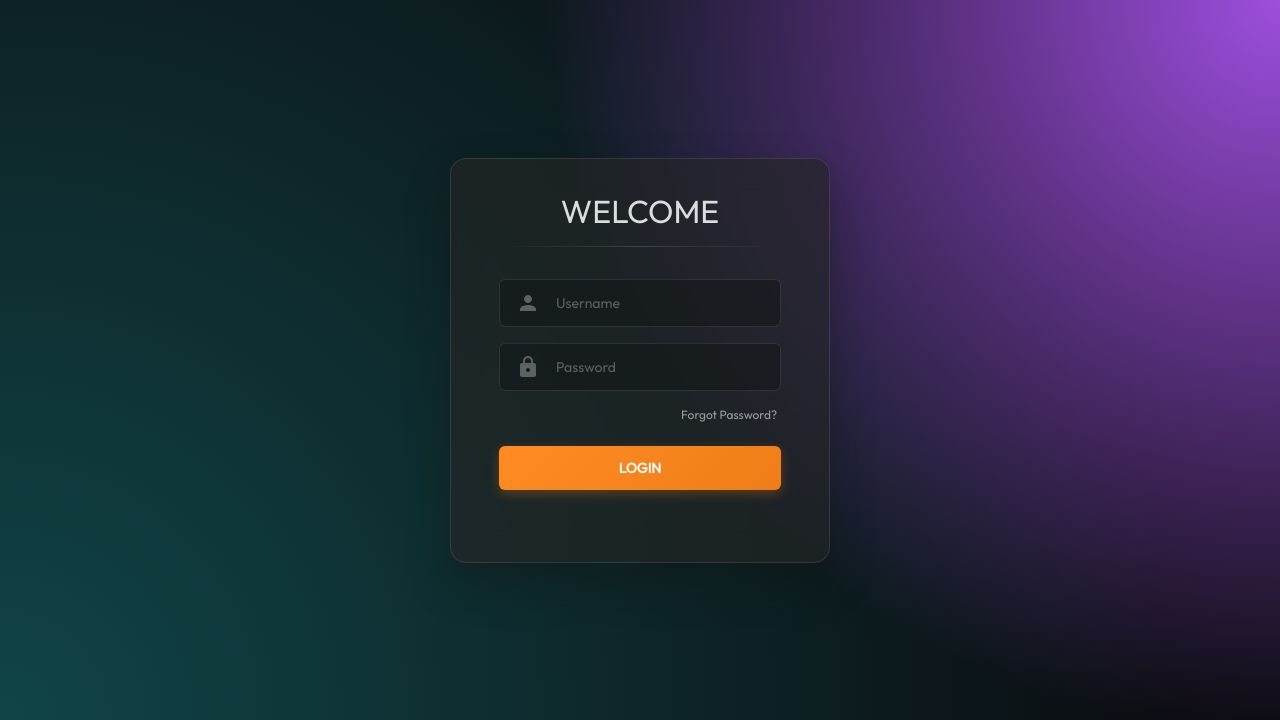
it: Login Component › Behavioral Scenarios › WHEN form is submitted and credentials are invalid SHOULD display exact API error message content within container
Step 1. Type "wrong@northern.com" into the field with placeholder "Username" → (660, 302), box [556, 280, 764, 326]
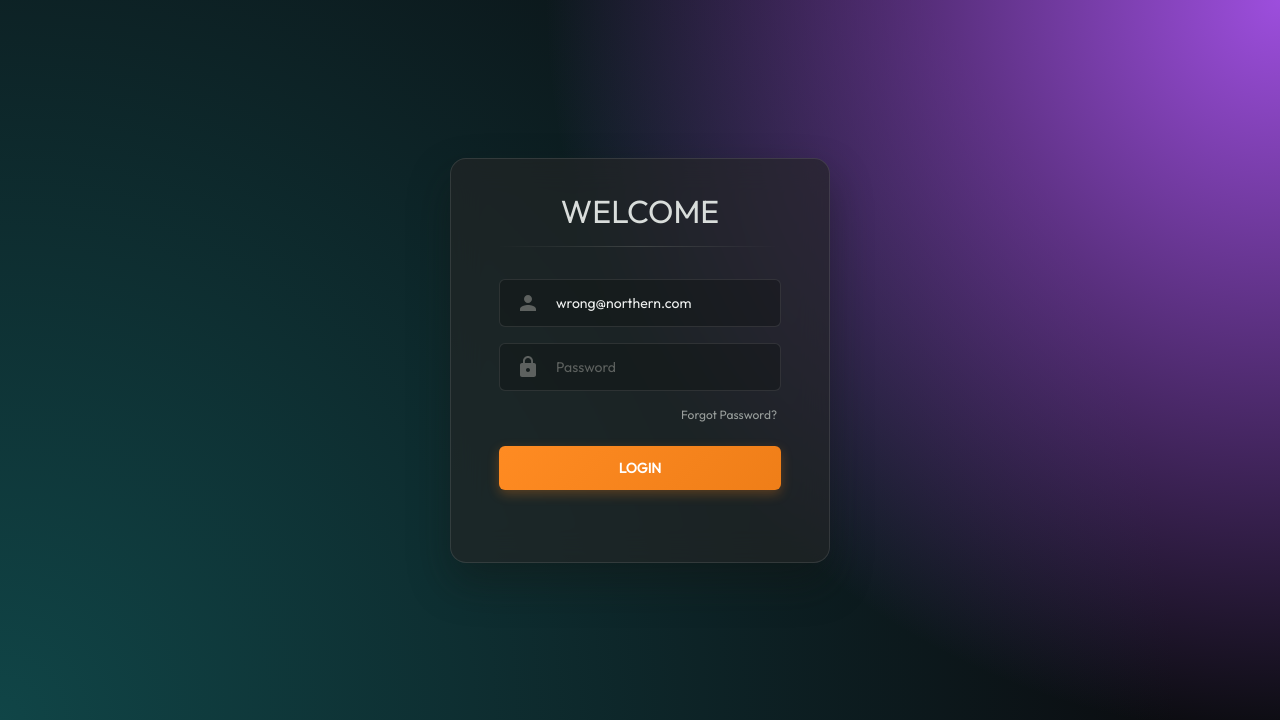
Step 2. Type "wrongpass" into the password field with placeholder "Password" → (660, 366), box [556, 344, 764, 390]
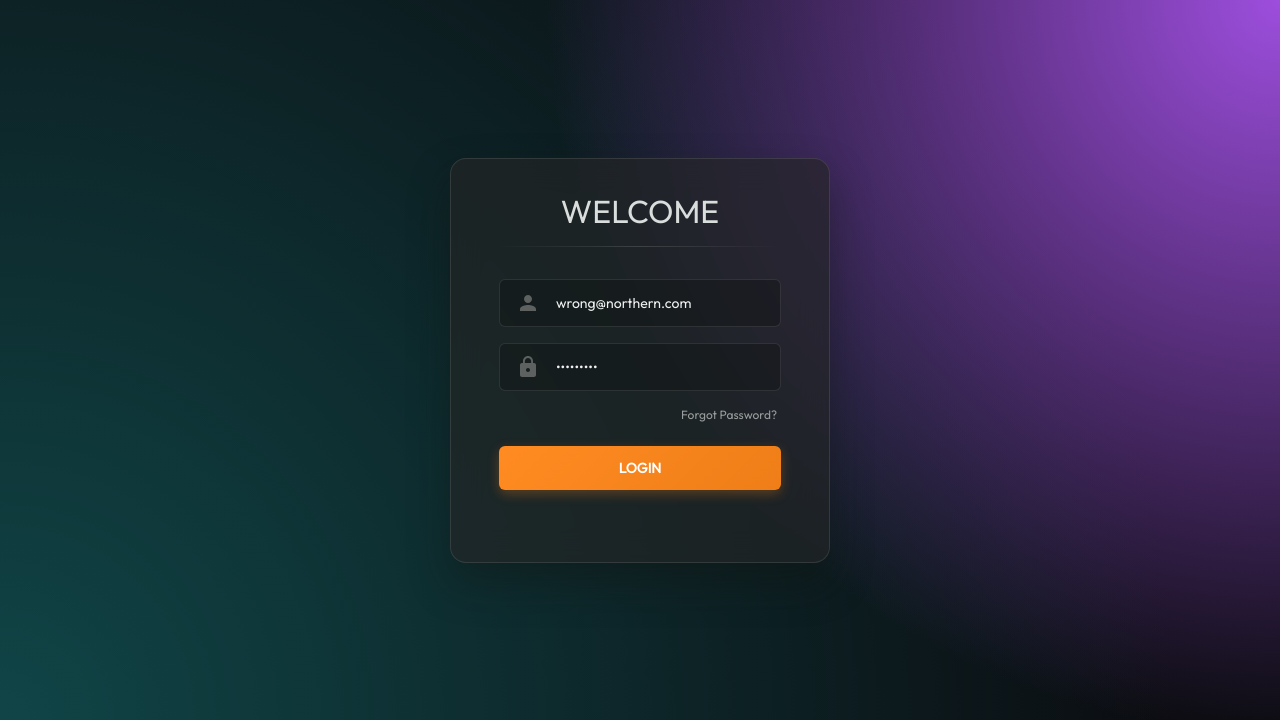
Step 3. Submit the form with test id "button-login", box [450, 158, 830, 562]
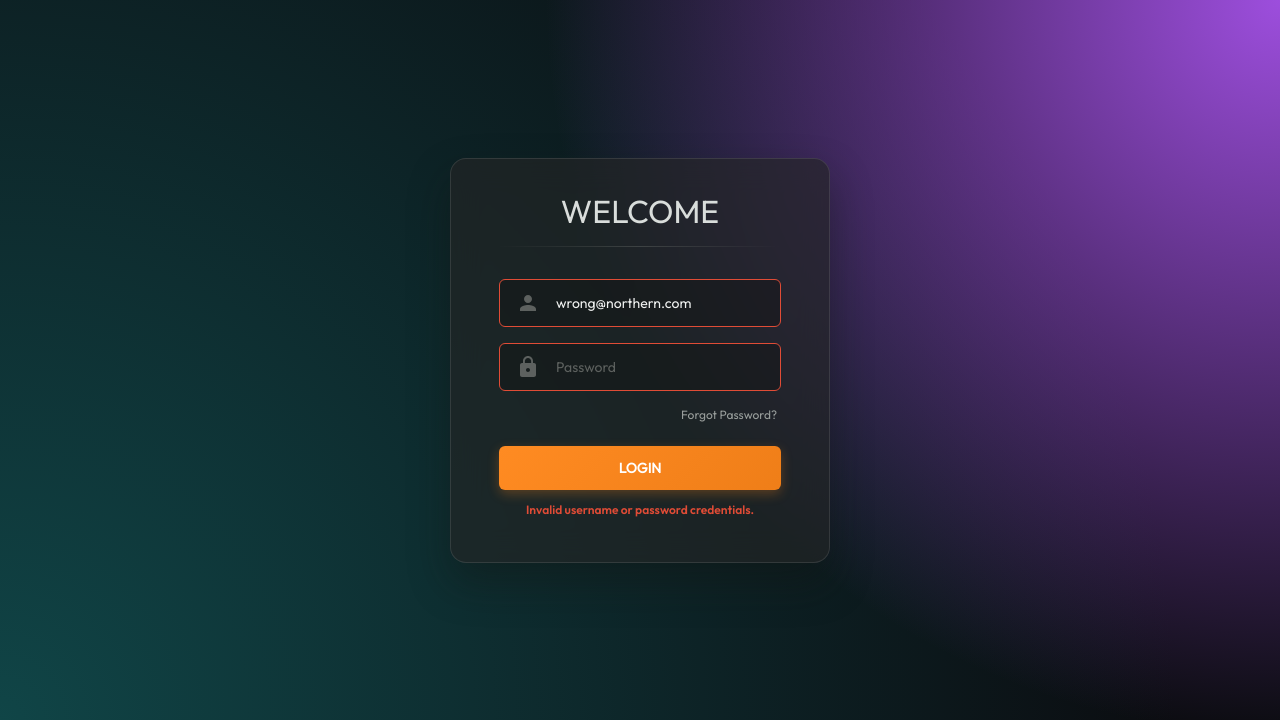
Expected: the text "Invalid username or password credentials." is shown, [526, 502, 754, 517]
